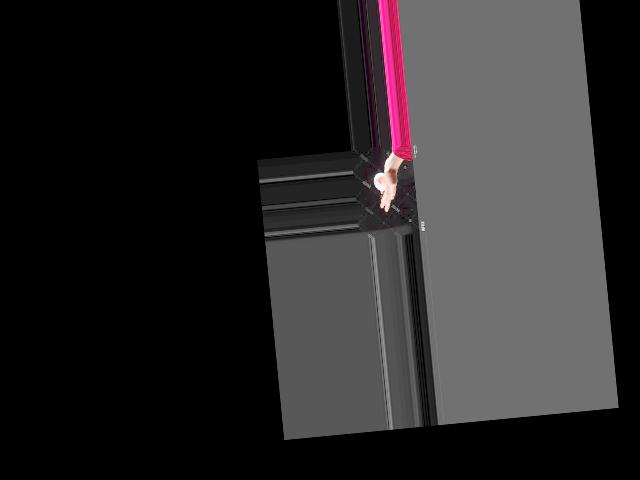egg: (373, 171, 387, 190)
